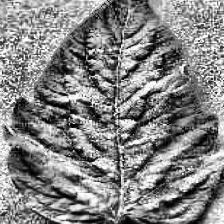Blossom Blight: (62, 127, 110, 160), (174, 160, 213, 185)
